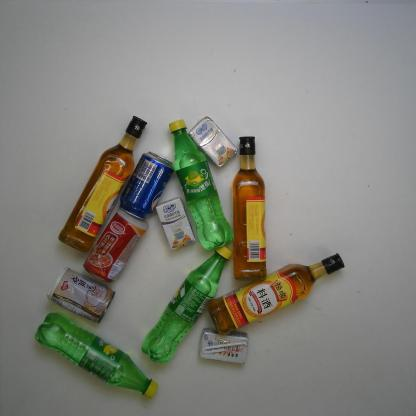Canned Food: (82, 209, 148, 284), (45, 266, 118, 322)
Drink: (28, 310, 160, 398), (140, 242, 234, 363), (166, 117, 234, 252), (119, 146, 174, 221)
Milk: (187, 115, 238, 168), (153, 194, 196, 251), (195, 325, 250, 365)
Seasoner: (58, 111, 149, 253), (206, 251, 346, 337), (228, 134, 270, 283)
